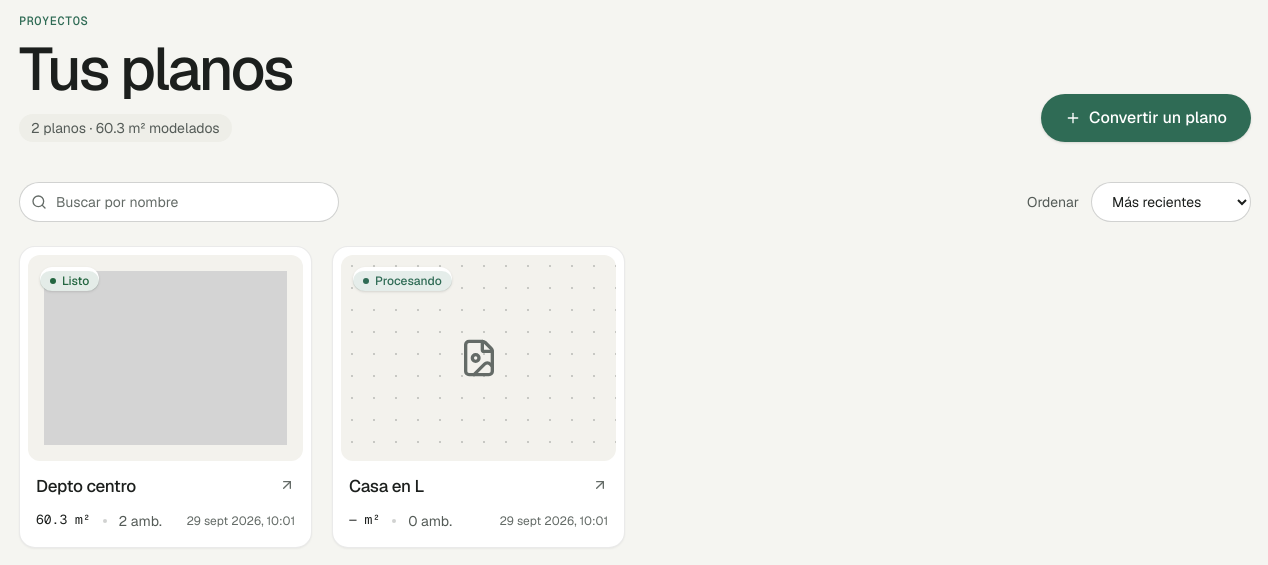
it: ProjectsPage › filtra por nombre y avisa cuando nada coincide
Expected: the list named "Proyectos" is shown, [19,246,625,548]
Expected: the text "2 planos · 60.3 m² modelados" is shown, [19,114,232,142]
Type "casa" into the search field named "Buscar planos". click: [179, 202]
box: [19,182,339,222]
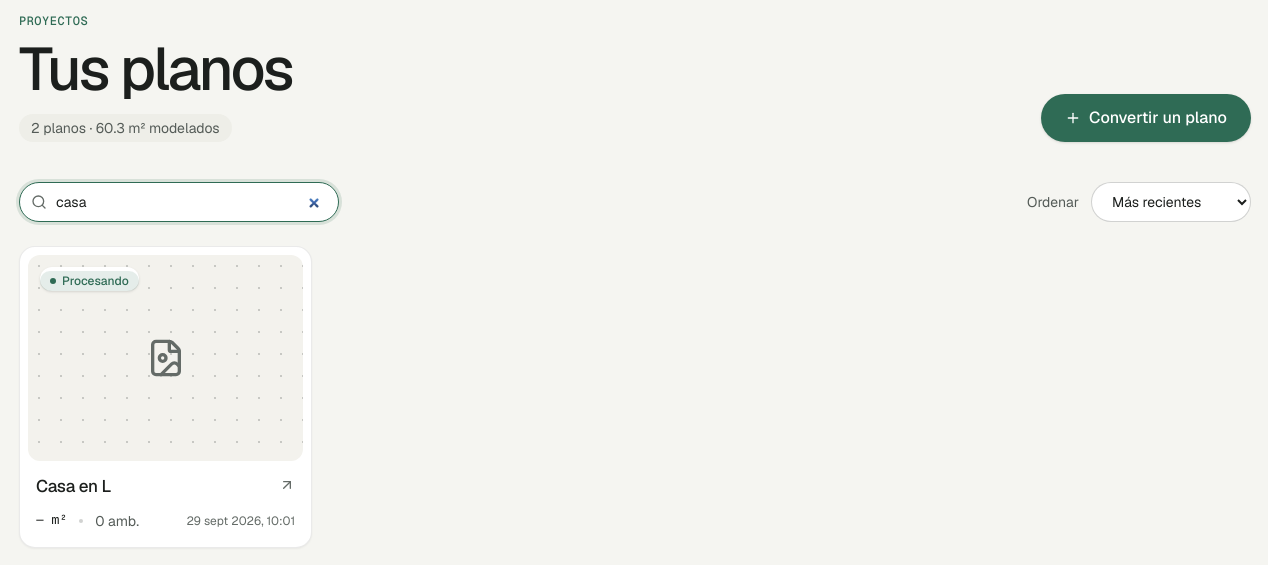
Expected: the heading "Casa en L" is shown, [36,475,111,499]
Expected: the number of list items is 1, [19,246,312,548]
Replace the text in the search field named "Buscar planos" with "xyz". click: [179, 202]
box: [19,182,339,222]
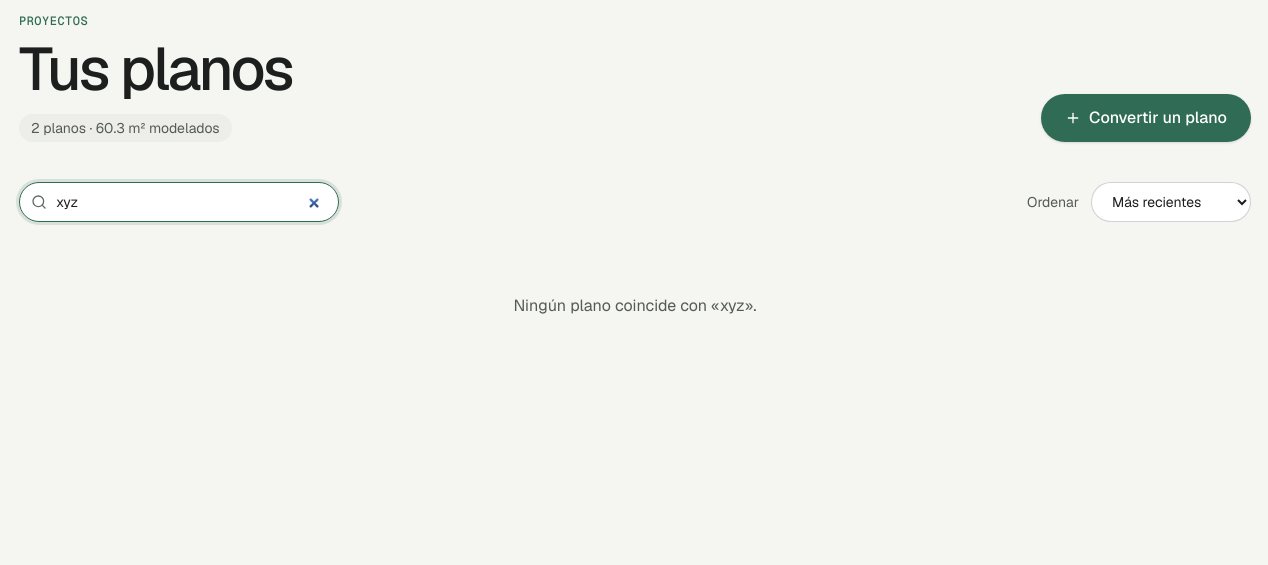
Expected: the message shows "Ningún plano coincide con «xyz»", [514,295,757,316]
